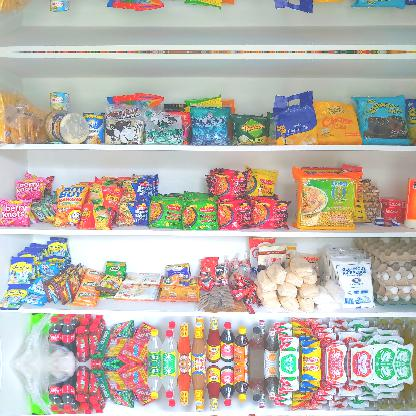Lady-s-Choice: (43, 109, 88, 143)
